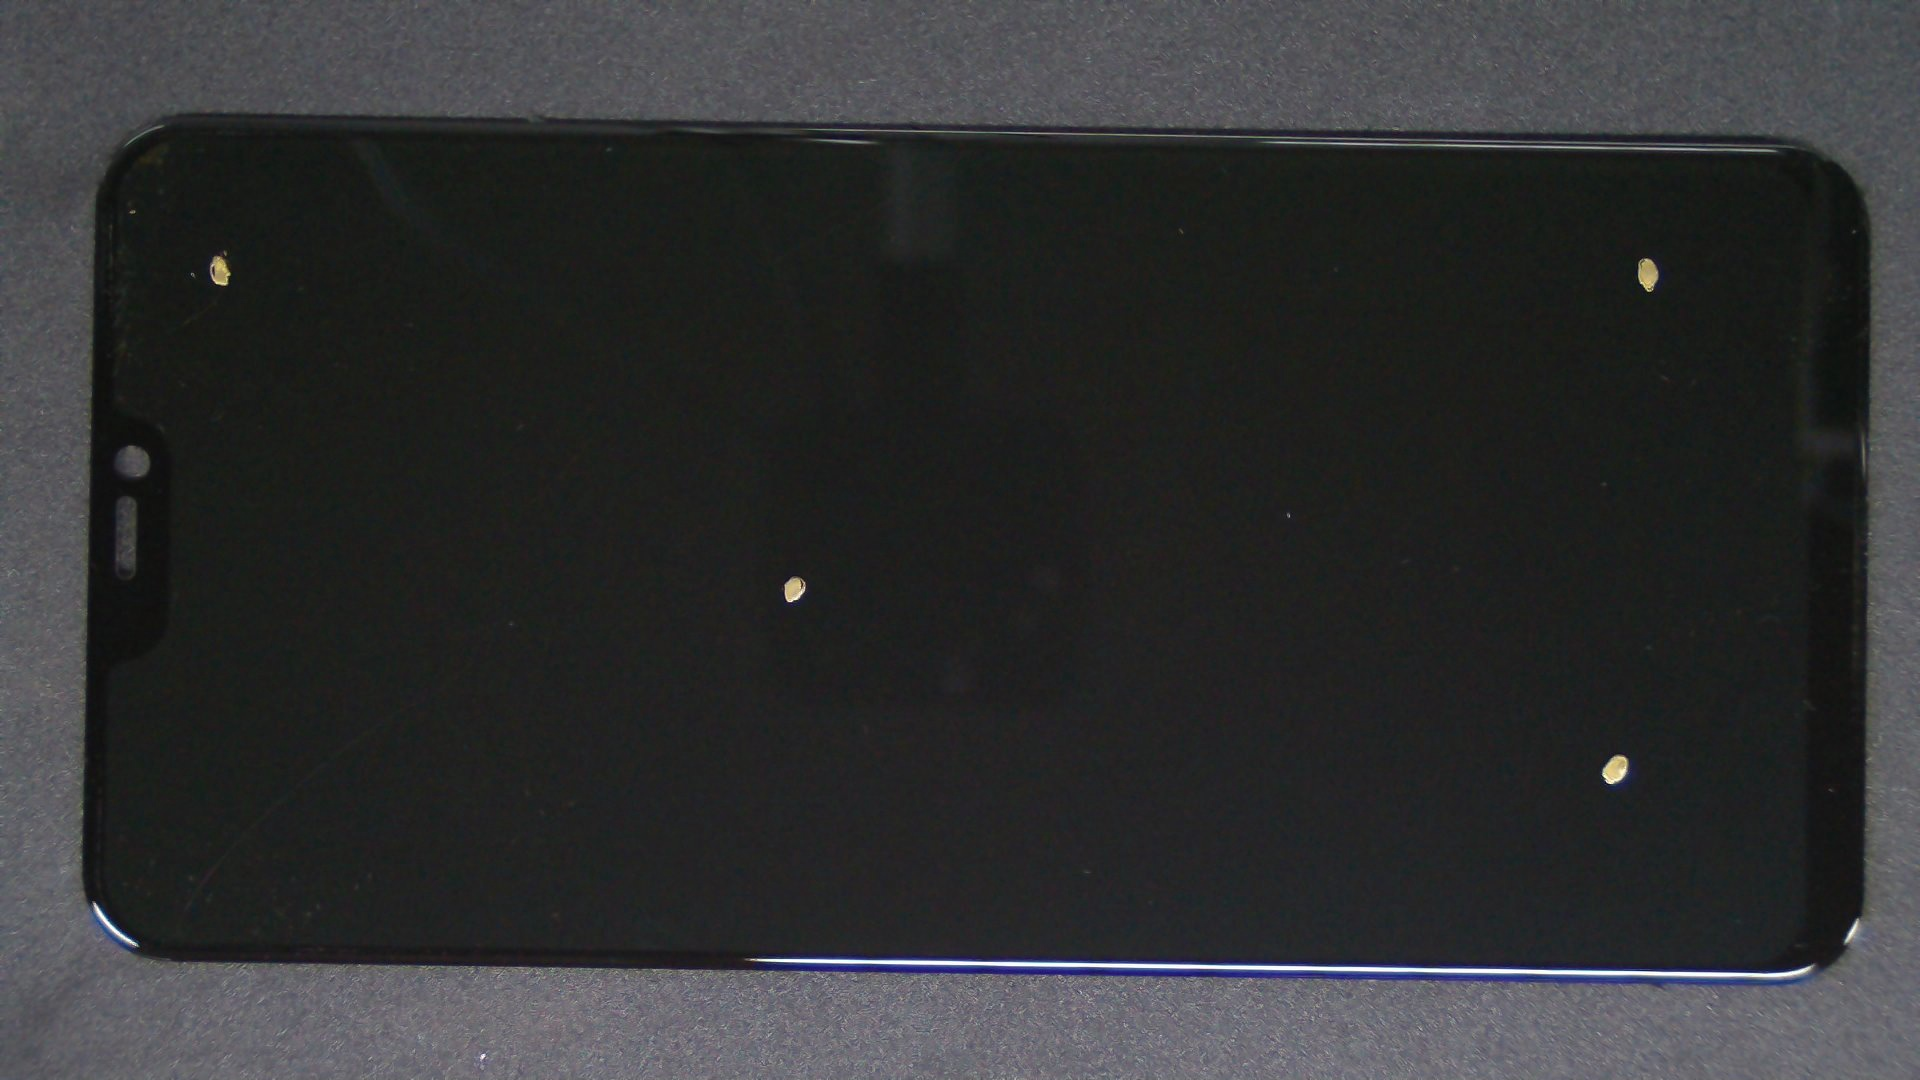oil: (811, 372, 1920, 1080), (400, 286, 1195, 861), (827, 128, 1920, 385), (107, 127, 319, 380)
